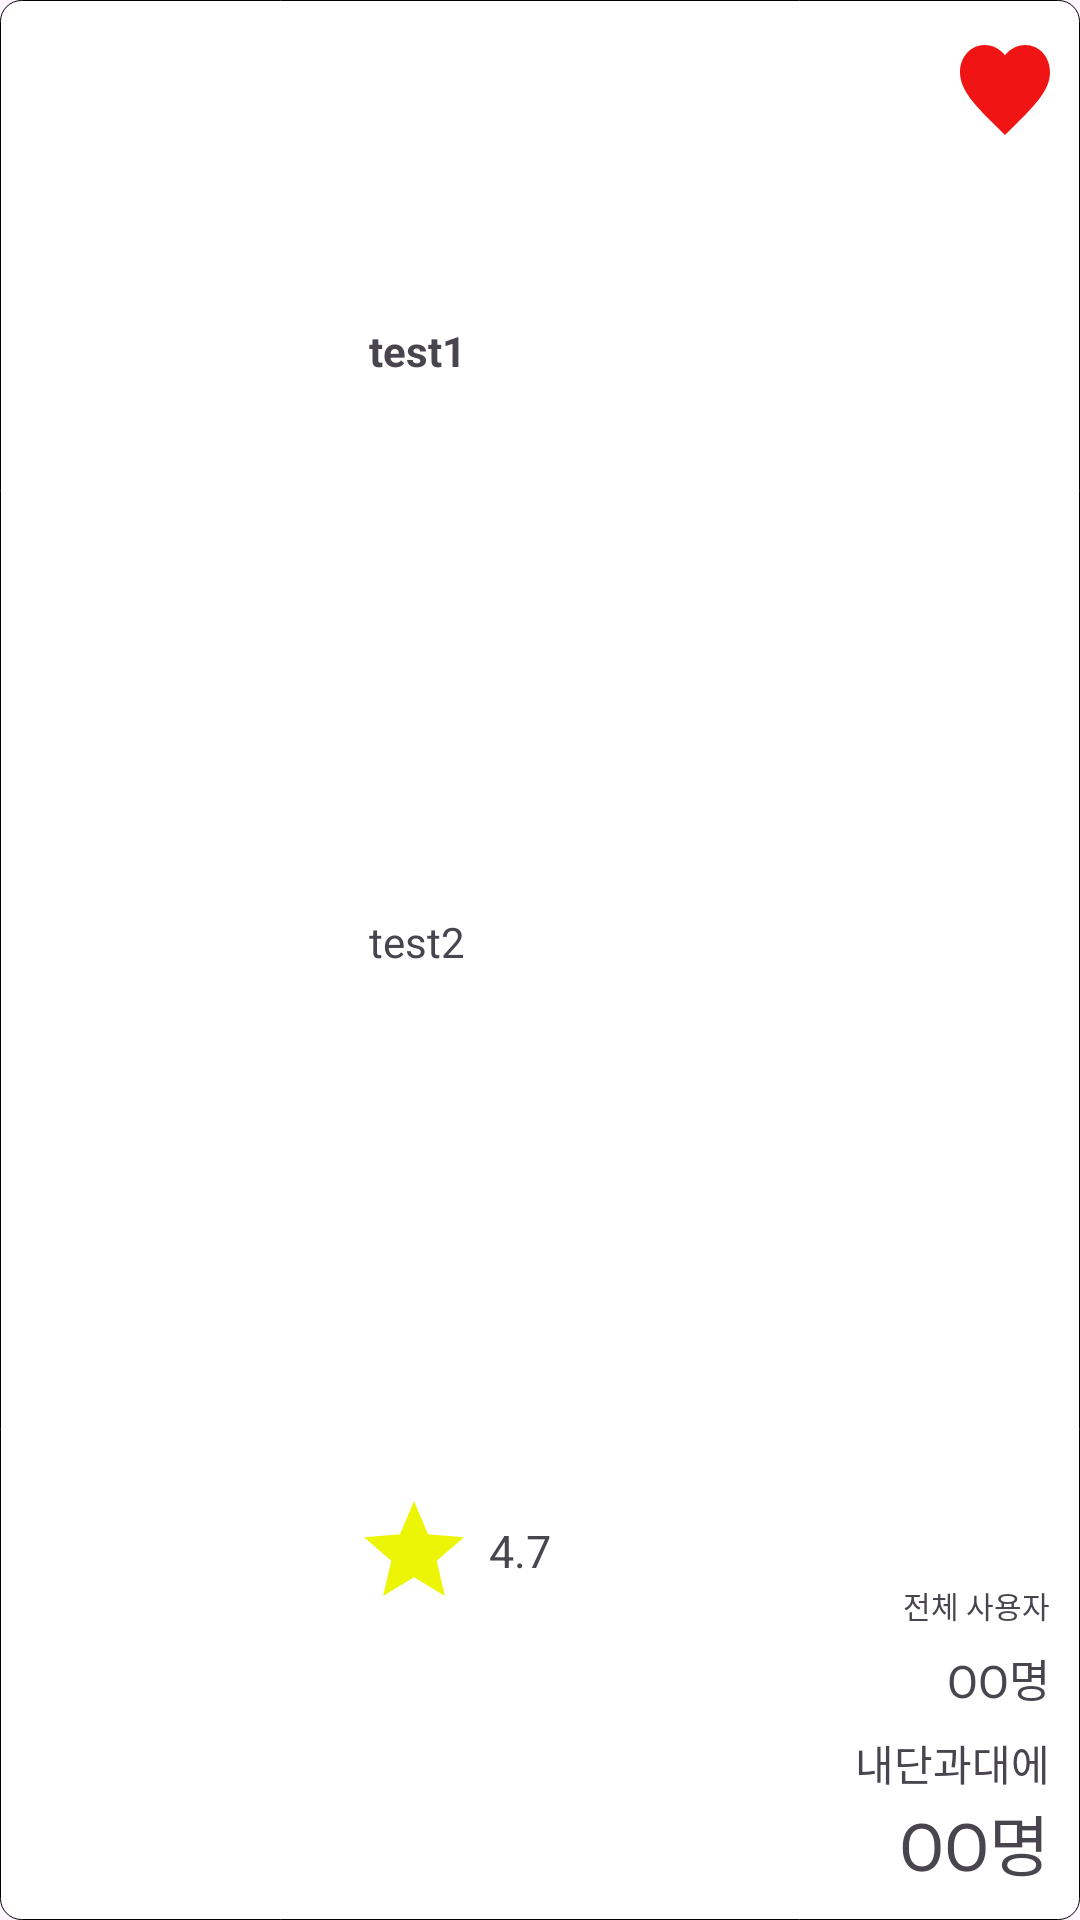

Where icons sit on this 1080 x 1920 app screen, as (x1, y1, x2, y2):
heart: (960, 45, 1050, 135)
rating star: (364, 1501, 464, 1596)
